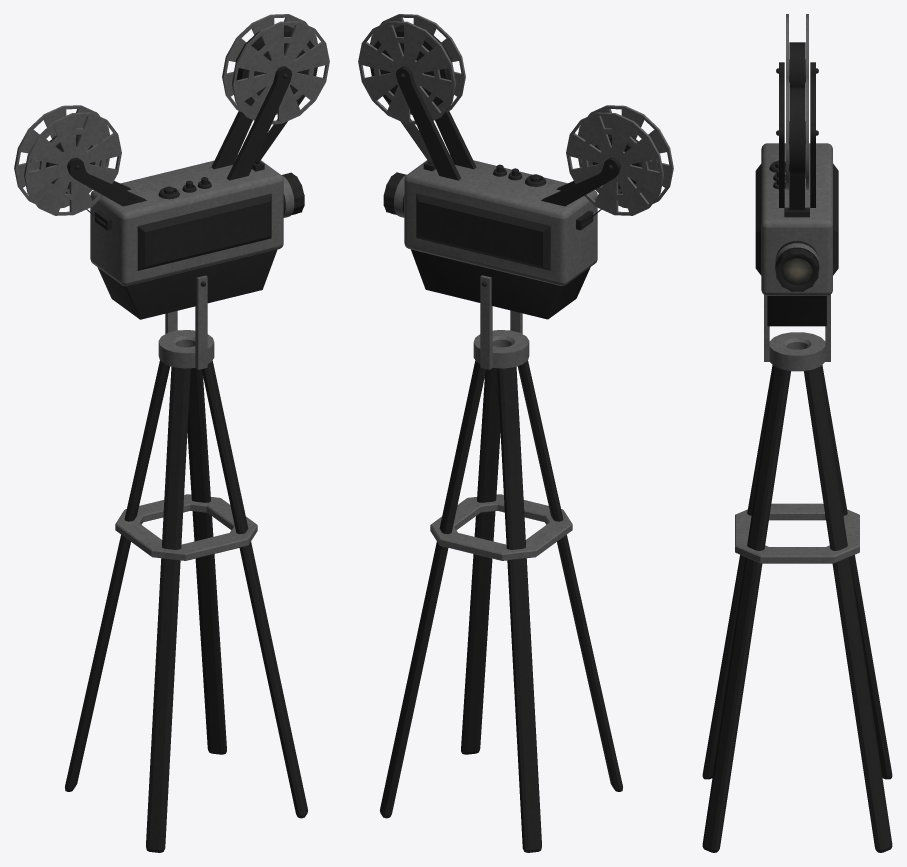
File: projector_1.obj
3 views of the same model, side by side, from view 1: azimuth 30°, elevation 25°; view 2: azimuth 150°, elevation 25°; view 3: azimuth 270°, elevation 25° (orthographic).
Parts seen in each view (by area): view 1: projector_1, projector_1_body, projector_wheel_rear, projector_wheel_front; view 2: projector_1, projector_1_body, projector_wheel_rear, projector_wheel_front; view 3: projector_1, projector_1_body, projector_wheel_front, projector_wheel_rear.
Part boxes in pixels (bbox=[...]): projector_1: bbox=[65, 275, 307, 852]; projector_1_body: bbox=[66, 66, 305, 319]; projector_wheel_rear: bbox=[14, 105, 121, 215]; projector_wheel_front: bbox=[222, 14, 329, 124]; projector_1: bbox=[380, 275, 622, 852]; projector_1_body: bbox=[383, 66, 621, 319]; projector_wheel_rear: bbox=[566, 105, 673, 215]; projector_wheel_front: bbox=[358, 14, 465, 124]; projector_1: bbox=[702, 294, 892, 852]; projector_1_body: bbox=[755, 62, 838, 326]; projector_wheel_front: bbox=[786, 76, 808, 189]; projector_wheel_rear: bbox=[786, 14, 808, 87].
Bounding box in the file's own units: 0.63 × 1.51 × 0.3337.
